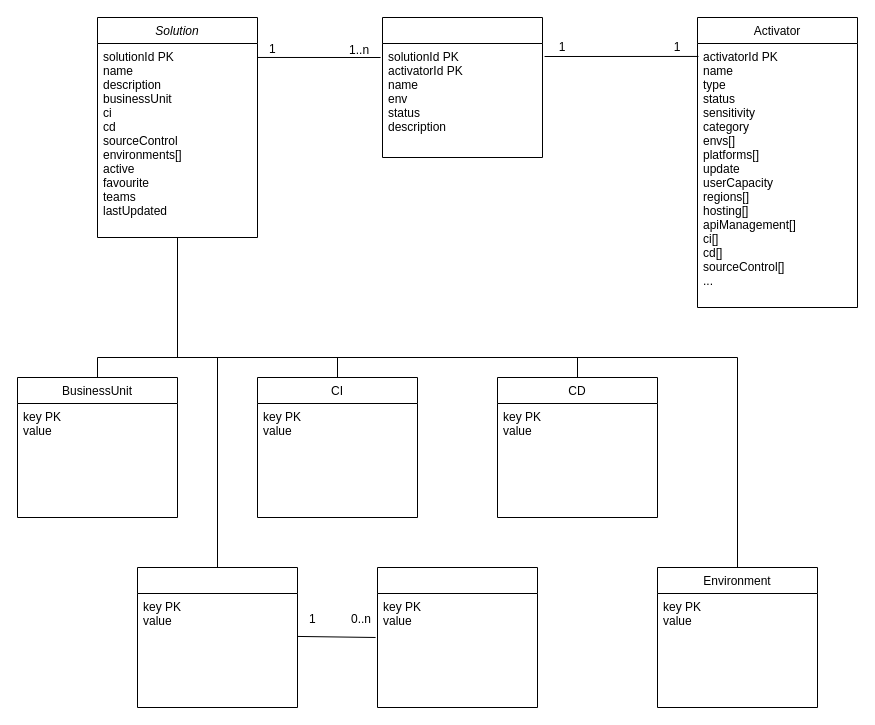
This 875x725 diagram has some shape labels left out. Each missing label, with the box of its shape:
Application: (382, 16, 542, 158)
Team: (136, 566, 298, 708)
User: (376, 566, 538, 708)
